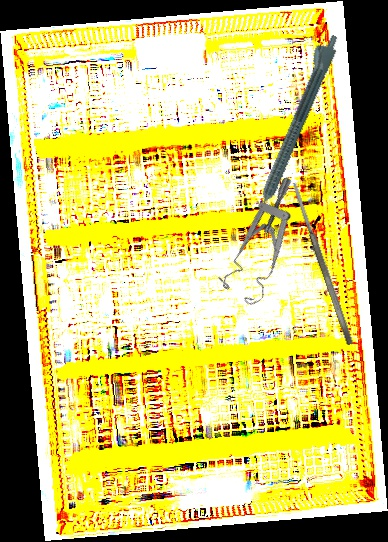Handpiece: (241, 30, 343, 225)
Spatula Surgical: (290, 181, 355, 346)
Speculum: (199, 175, 336, 313)
